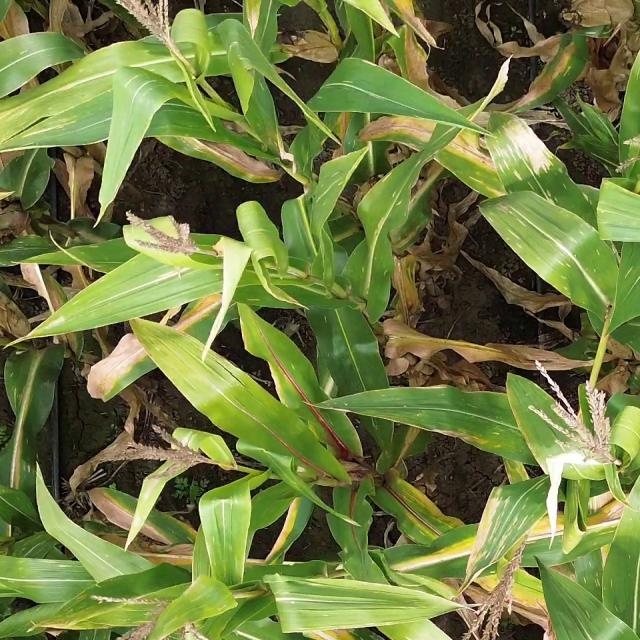gray-leaf-spot: (506, 204, 601, 284), (488, 122, 563, 190), (4, 370, 47, 477), (202, 489, 245, 567), (308, 72, 386, 109), (389, 148, 431, 205), (484, 495, 528, 545), (578, 600, 636, 634), (127, 70, 167, 115), (20, 554, 83, 582), (25, 116, 95, 140), (569, 551, 607, 594), (315, 169, 353, 212)
northern-leaf-blight: (396, 535, 520, 575), (398, 119, 498, 168), (118, 311, 219, 359), (178, 131, 267, 174), (100, 500, 185, 544), (527, 50, 577, 100), (301, 615, 370, 640)
southern-leaf-blight: (380, 388, 476, 421), (0, 233, 51, 267)
